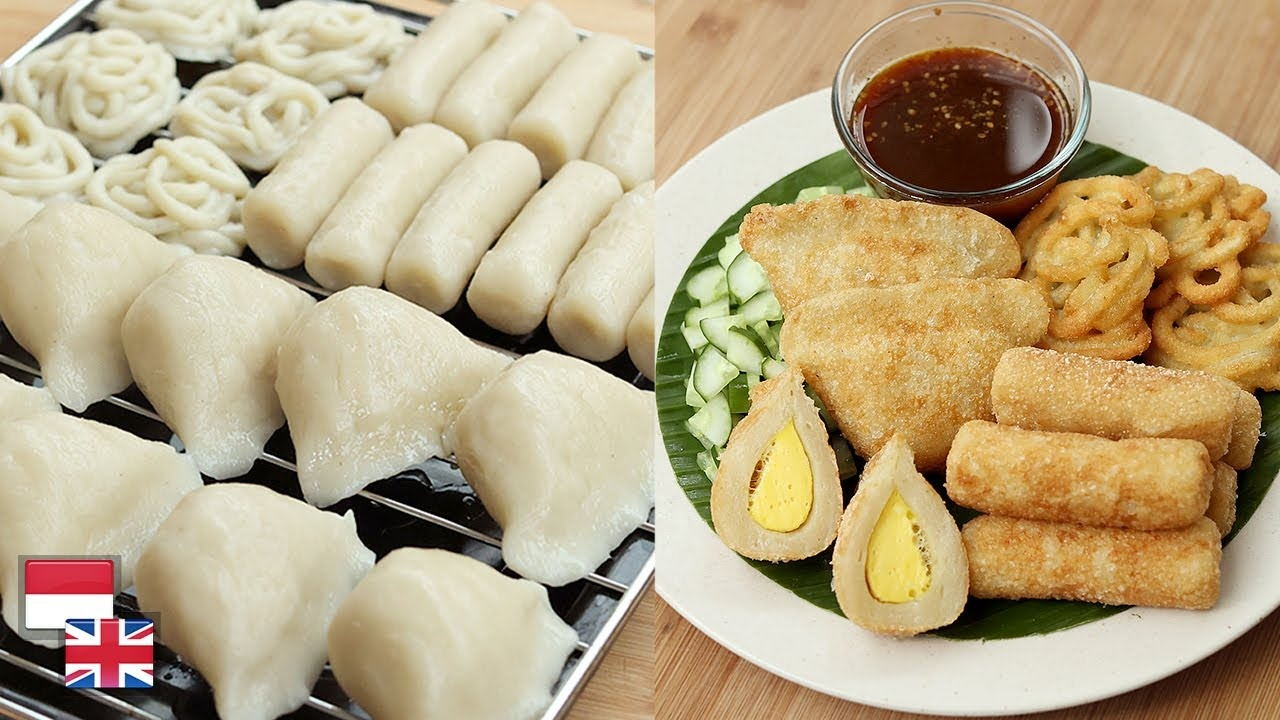pempek: (705, 24, 1262, 620)
